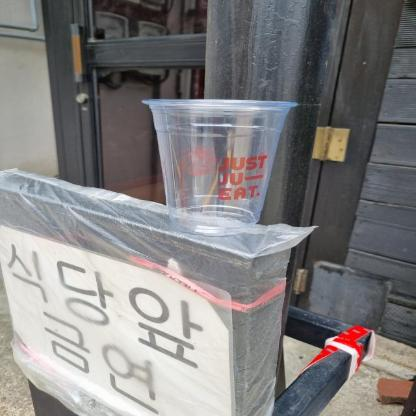Plastic Cup: (136, 94, 300, 240)
